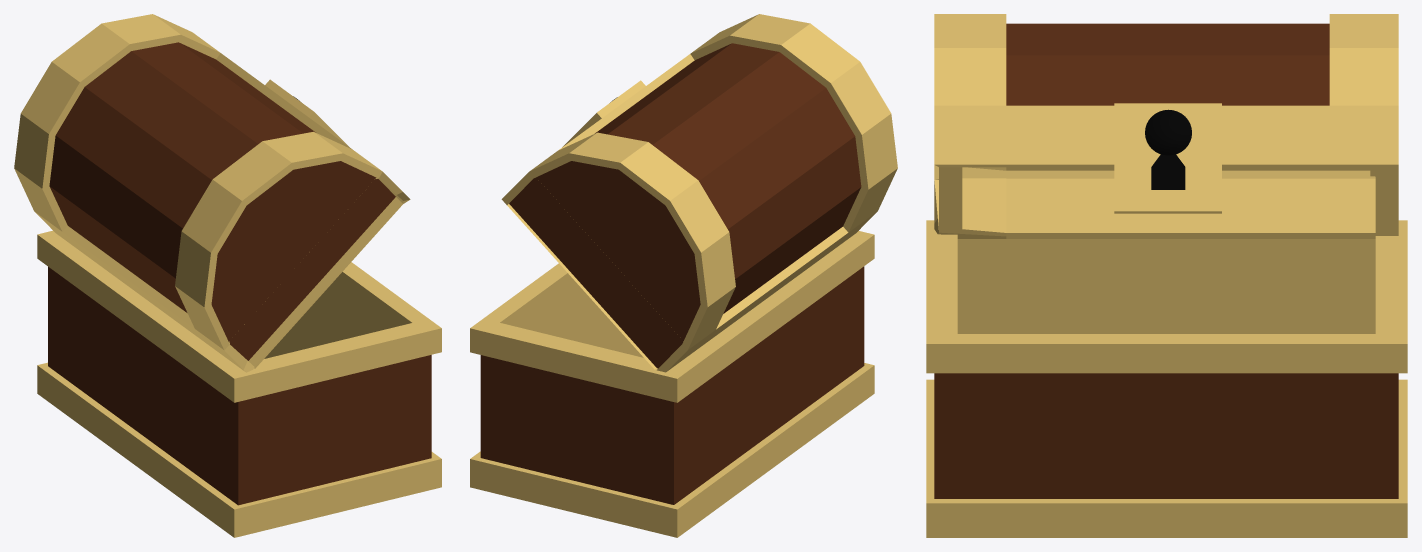
File: open chest.fbx
The picture shows the model from 3 angles, left to right: view 1: azimuth 30°, elevation 25°; view 2: azimuth 150°, elevation 25°; view 3: azimuth 270°, elevation 25°; orthographic projection. The views are drawn at different scales.
Visible parts, largest first — view 1: Chest Opened; view 2: Chest Opened; view 3: Chest Opened.
Part boxes in pixels (x1=…): Chest Opened: x1=14, y1=14, x2=441, y2=537; Chest Opened: x1=470, y1=14, x2=897, y2=537; Chest Opened: x1=926, y1=14, x2=1407, y2=537.
Size of the model in its own units: 101 by 147 by 146.
